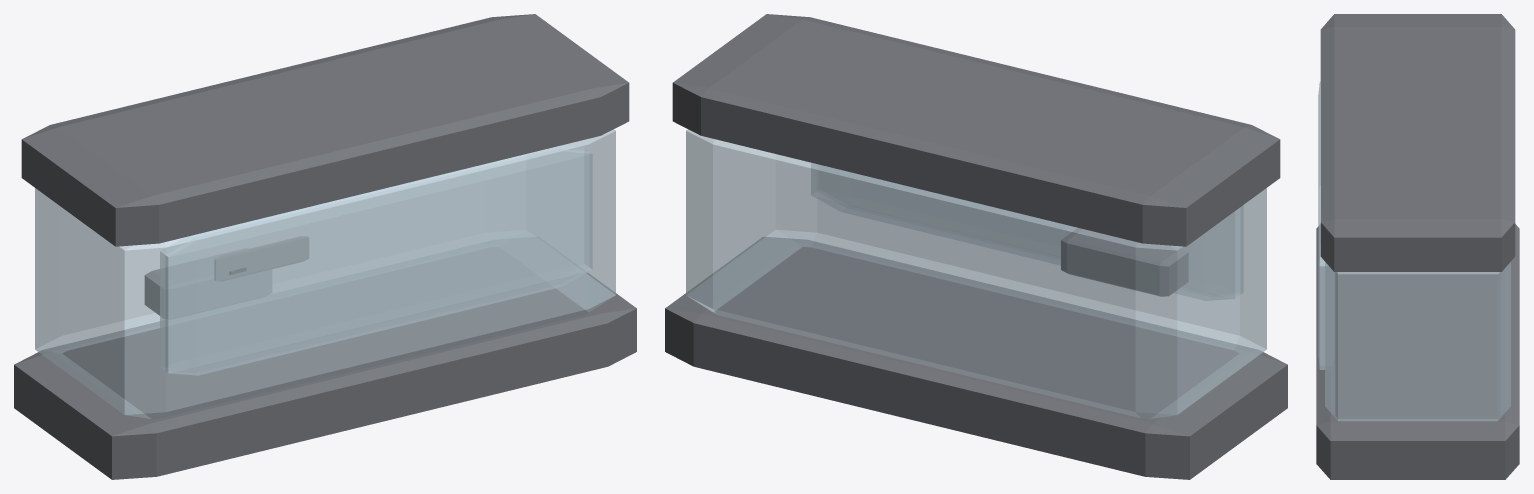
The model's file is b12_basement_hopper_window.glb.
3 renders of one model, left to right at view 1: azimuth 30°, elevation 25°; view 2: azimuth 150°, elevation 25°; view 3: azimuth 270°, elevation 25°, orthographic. The views are drawn at different scales.
Parts seen in each view (by area): view 1: b12_basement_hopper_window; view 2: b12_basement_hopper_window; view 3: b12_basement_hopper_window.
Boxes of the visible parts, bbox=[...] form: b12_basement_hopper_window: bbox=[14, 14, 636, 479]; b12_basement_hopper_window: bbox=[665, 14, 1287, 479]; b12_basement_hopper_window: bbox=[1316, 14, 1519, 479].
Bounding box in the file's own units: 1.43 × 0.718 × 0.538.
